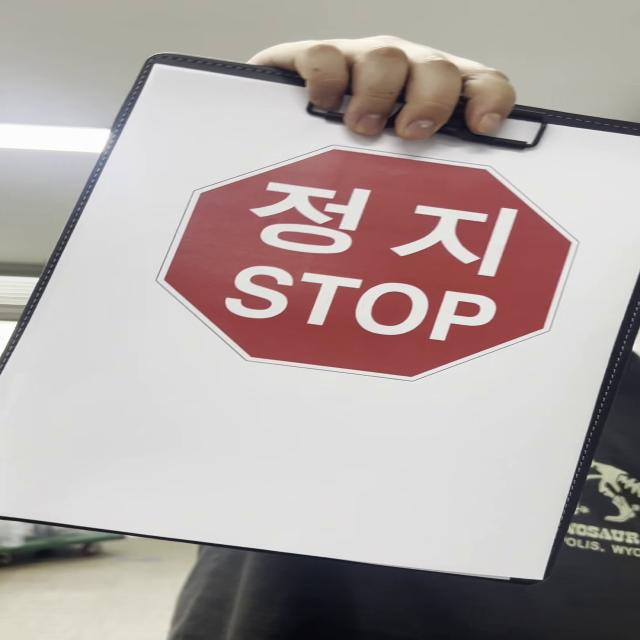stop: (163, 142, 587, 384)
